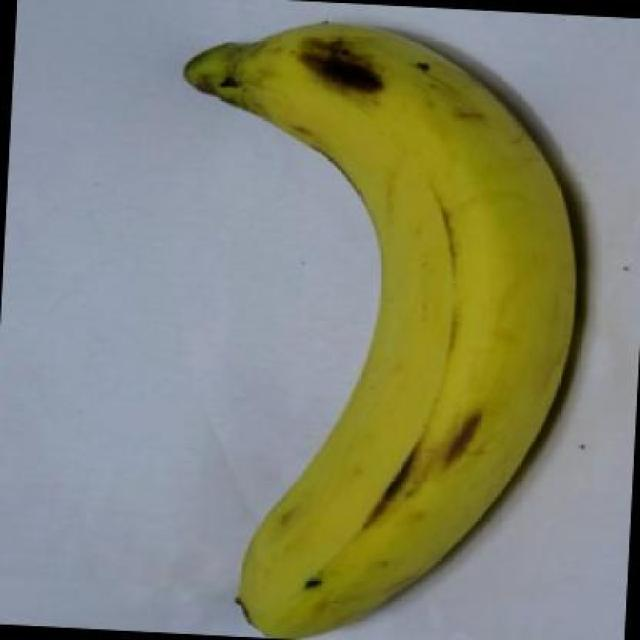ripe: (115, 11, 599, 640)
